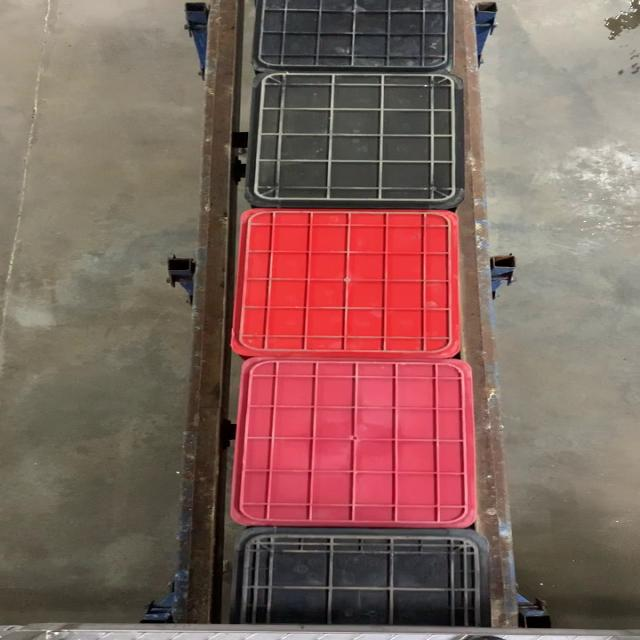Box: (232, 359, 479, 527), (228, 209, 458, 357), (243, 69, 467, 210)
